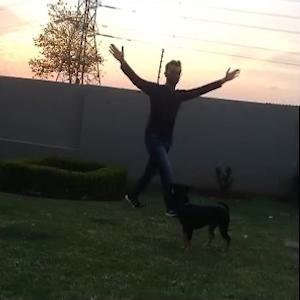takeoff: (109, 49, 234, 209)
